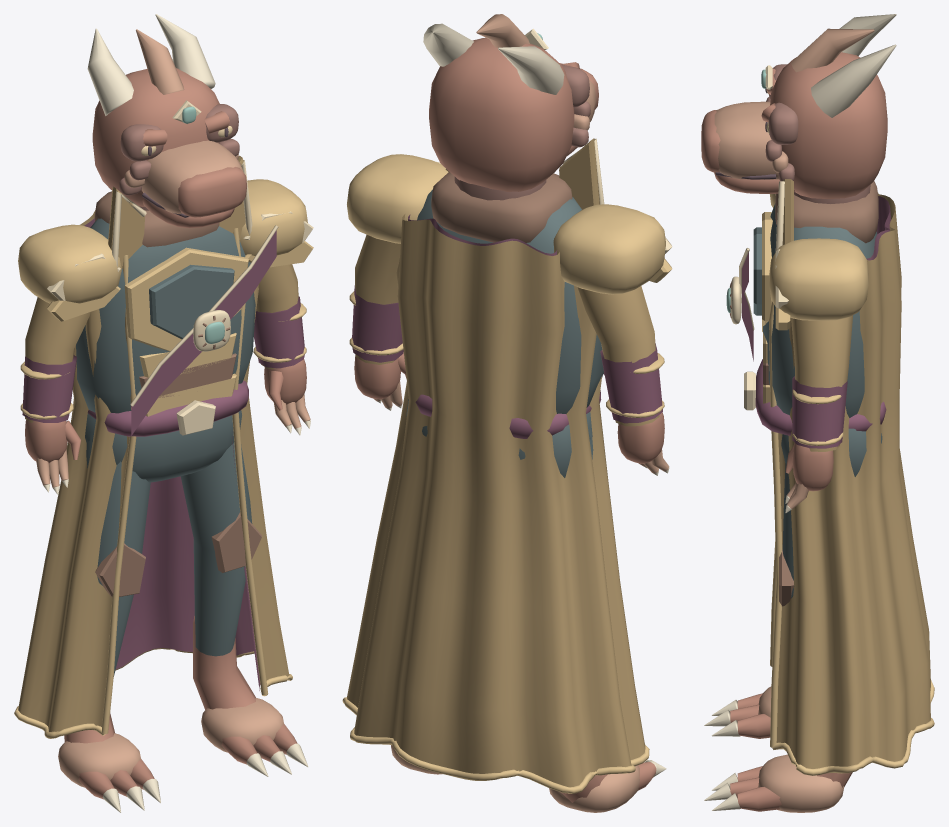
File: AEDANIUS_I_CRETACEA.glb
3 renders of one model, left to right at view 1: azimuth 30°, elevation 25°; view 2: azimuth 150°, elevation 25°; view 3: azimuth 270°, elevation 25°, orthographic. The views are drawn at different scales.
Visible parts, largest first — view 1: Pleated ochre outer coat, Wine red coat lining, Dark teal tunic, Right fitted trouser leg, Reptilian head, Left shoulder lacquer, Belted hip layer, Inset teal chest plate, Central cuirass, Right shoulder lacquer, Left fitted trouser leg, Long copper snout (+37 smaller); view 2: Pleated ochre outer coat, Reptilian head, Left shoulder lacquer, Right shoulder lacquer, Bronze collar base, Dark teal tunic, Left segmented sleeve, Left wine red bracer, Right segmented sleeve, Right wine red bracer, Coat hem gold binding, Left plated foot (+10 smaller); view 3: Pleated ochre outer coat, Reptilian head, Right shoulder lacquer, Dark teal tunic, Right segmented sleeve, Long copper snout, Right plated foot, Bronze collar base, Right wine red bracer, Back swept crown horn 1, Left opening gold binding, Central copper crest (+20 smaller).
Boxes of the visible parts, left/top/right/bottom form: Pleated ochre outer coat: left=18, top=210, right=289, bottom=731; Wine red coat lining: left=84, top=218, right=260, bottom=690; Dark teal tunic: left=76, top=218, right=255, bottom=413; Right fitted trouser leg: left=180, top=442, right=252, bottom=656; Reptilian head: left=92, top=68, right=219, bottom=206; Left shoulder lacquer: left=18, top=224, right=121, bottom=303; Belted hip layer: left=85, top=410, right=241, bottom=482; Inset teal chest plate: left=149, top=264, right=234, bottom=339; Central cuirass: left=124, top=247, right=248, bottom=351; Right shoulder lacquer: left=240, top=179, right=307, bottom=255; Left fitted trouser leg: left=86, top=431, right=150, bottom=676; Long copper snout: left=141, top=140, right=242, bottom=213; Pleated ochre outer coat: left=347, top=214, right=645, bottom=787; Reptilian head: left=429, top=37, right=574, bottom=191; Left shoulder lacquer: left=553, top=204, right=665, bottom=294; Right shoulder lacquer: left=347, top=154, right=448, bottom=243; Bronze collar base: left=431, top=172, right=572, bottom=242; Dark teal tunic: left=417, top=189, right=603, bottom=413; Left segmented sleeve: left=577, top=286, right=659, bottom=426; Left wine red bracer: left=600, top=343, right=662, bottom=423; Right segmented sleeve: left=355, top=234, right=400, bottom=364; Right wine red bracer: left=352, top=285, right=403, bottom=362; Coat hem gold binding: left=342, top=697, right=649, bottom=793; Left plated foot: left=549, top=765, right=639, bottom=812; Pleated ochre outer coat: left=776, top=192, right=930, bottom=768; Reptilian head: left=770, top=52, right=887, bottom=198; Right shoulder lacquer: left=769, top=238, right=868, bottom=320; Dark teal tunic: left=763, top=203, right=877, bottom=417; Right segmented sleeve: left=791, top=315, right=852, bottom=451; Long copper snout: left=714, top=101, right=778, bottom=179; Right plated foot: left=758, top=754, right=843, bottom=812; Bronze collar base: left=775, top=181, right=878, bottom=243; Right wine red bracer: left=792, top=376, right=847, bottom=448; Back swept crown horn 1: left=811, top=44, right=896, bottom=117; Left opening gold binding: left=769, top=301, right=782, bottom=747; Central copper crest: left=791, top=28, right=874, bottom=72.
Size of the model in its own units: 1.68 by 4.07 by 1.17.
